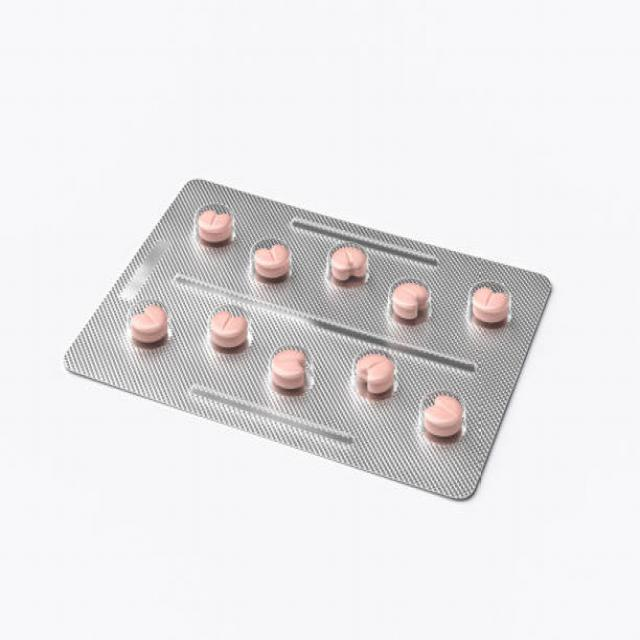Pill: (410, 376, 470, 456), (265, 338, 318, 404), (243, 232, 300, 292), (467, 269, 516, 338), (202, 294, 254, 359), (122, 289, 173, 355), (348, 340, 399, 404), (320, 237, 373, 297), (184, 199, 236, 254), (383, 269, 431, 327)
